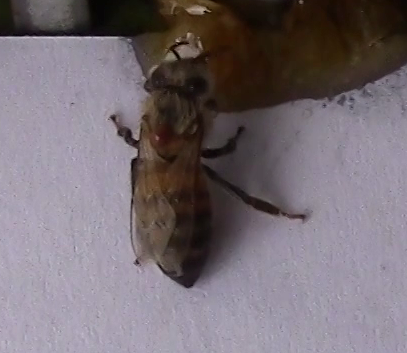Varroa destructor: (148, 119, 174, 151)
